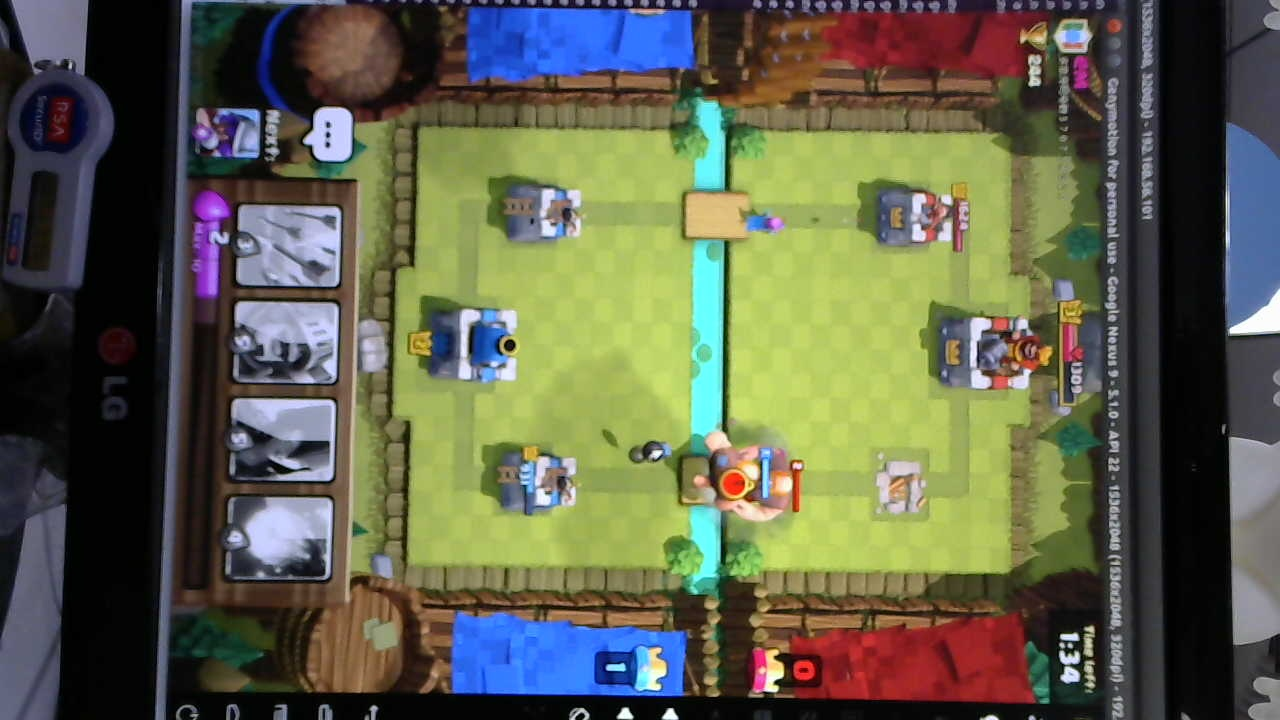giantE: (725, 443, 805, 523)
